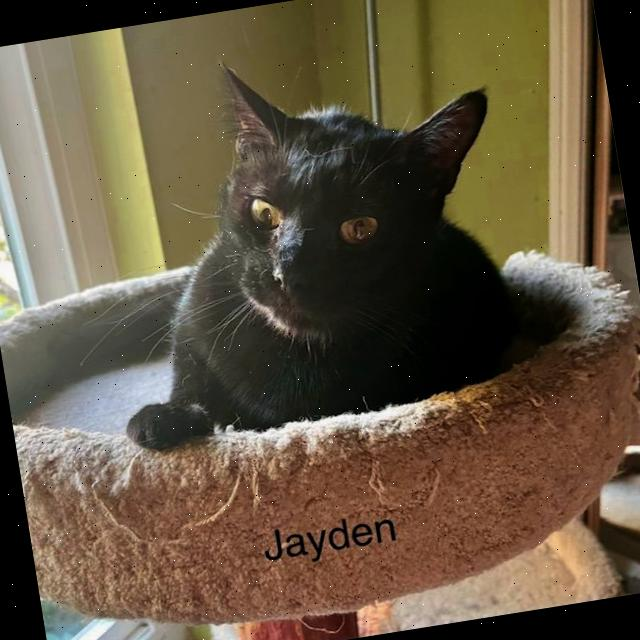bombay_cat: (167, 7, 538, 384)
